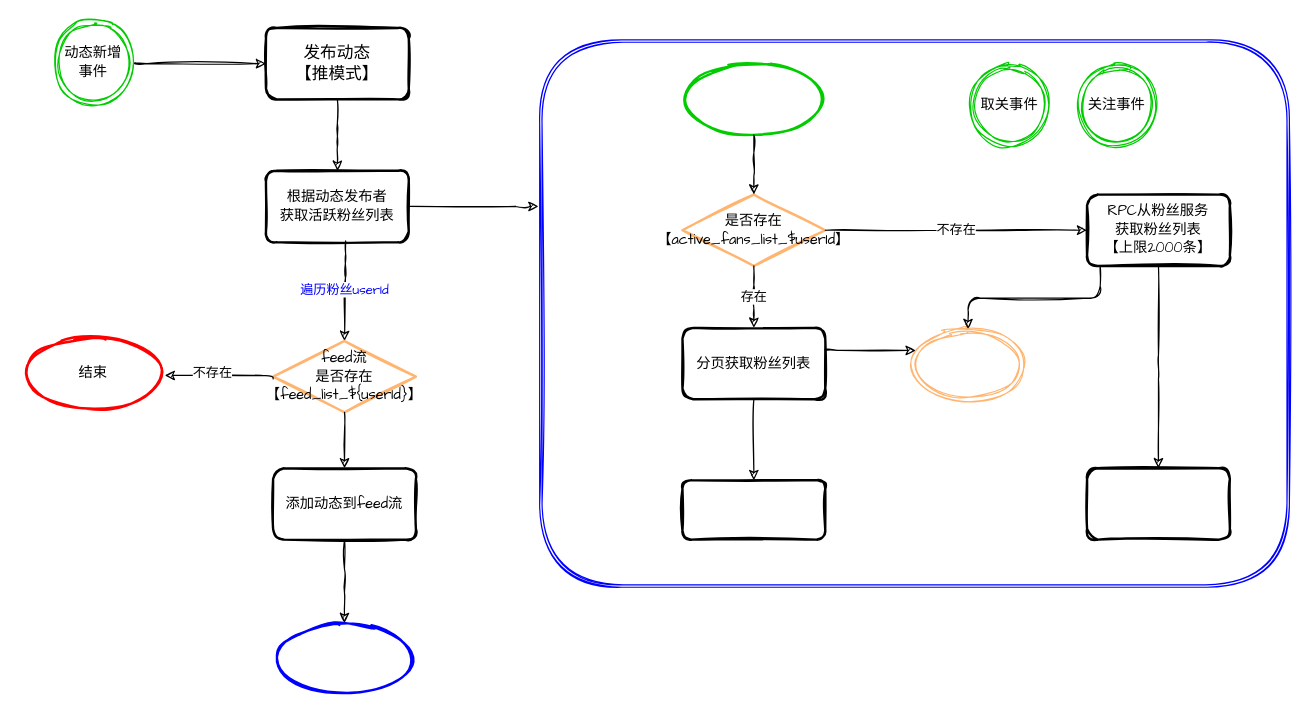
Image size: 1310x716. Some labels were removed from this diagram. The centre of each missing label's shape, as x and y in pixels:
"完成" belongs at [343,658].
"添加活跃粉丝" belongs at [1157,503].
"清除不活跃的粉丝" belongs at [753,509].
"粉丝活跃状态 【active_user_status_${userId}】" belongs at [967,364].
"获取活跃粉丝列表" belongs at [753,99].
